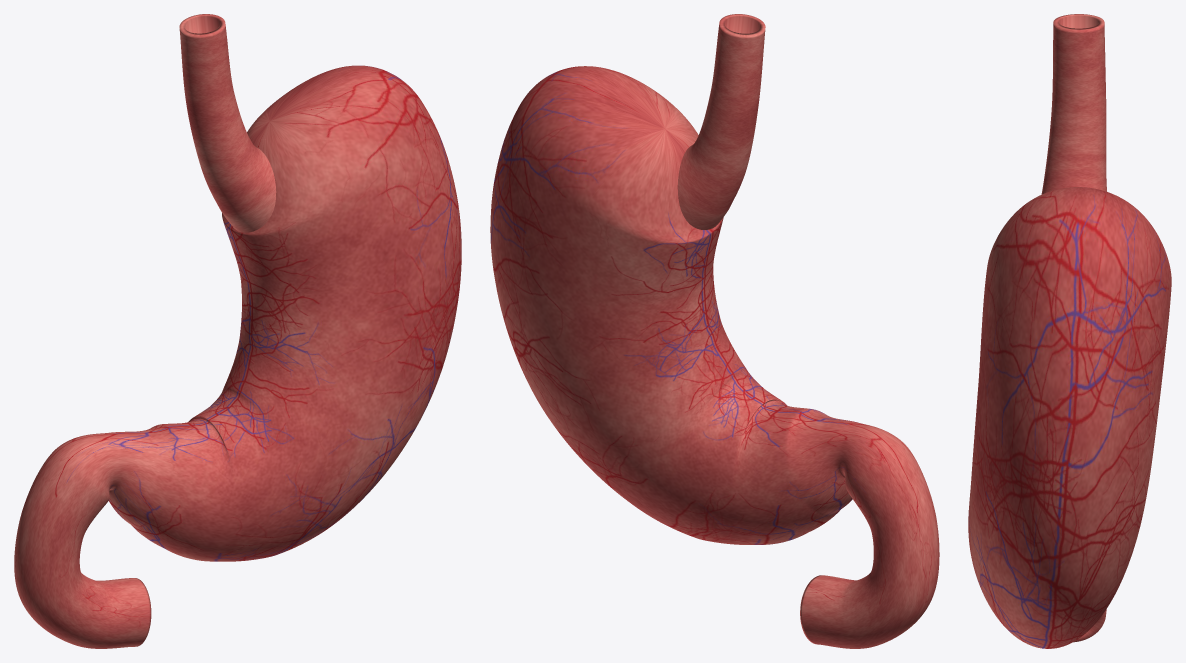
The model's file is stomach.glb.
3 renders of one model, left to right at view 1: azimuth 30°, elevation 25°; view 2: azimuth 150°, elevation 25°; view 3: azimuth 270°, elevation 25°, orthographic. The views are drawn at different scales.
Parts seen in each view (by area): view 1: stomach; view 2: stomach; view 3: stomach.
Part boxes in pixels (x1,y1,x2,y2): stomach: (14, 14, 461, 648); stomach: (490, 14, 939, 648); stomach: (968, 14, 1171, 648).
Size of the model in its own units: 2.72 by 3.58 by 0.992.
Materials: 1 (1 with a texture image).
